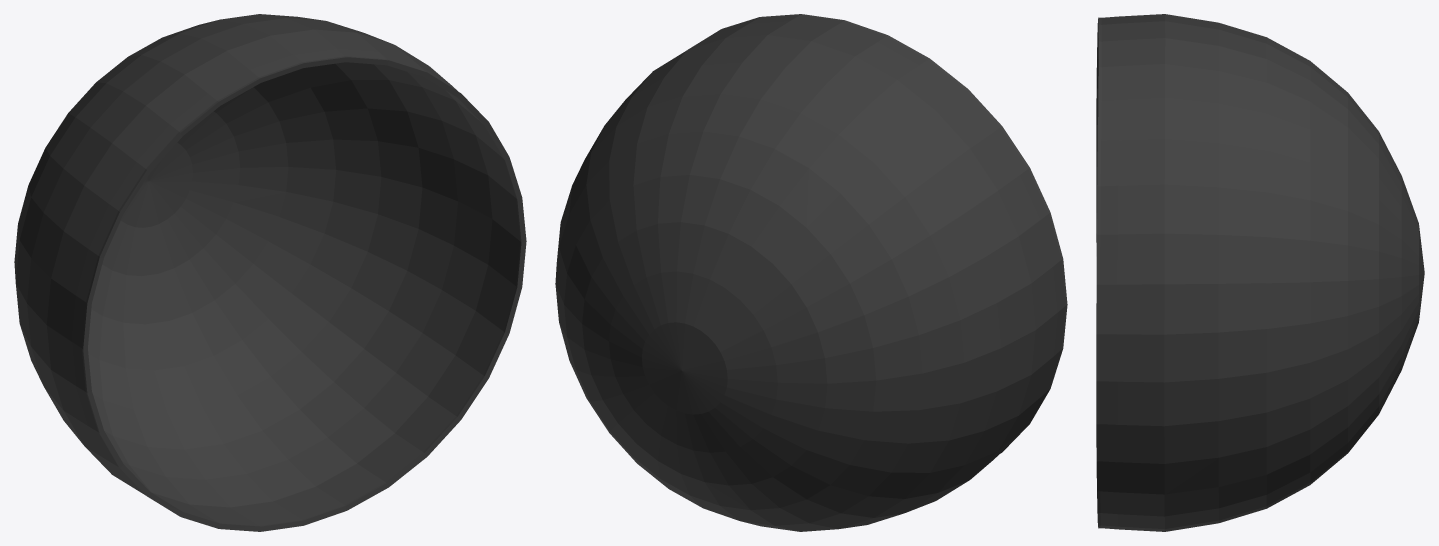
File: Retina.glb
3 renders of one model, left to right at view 1: azimuth 30°, elevation 25°; view 2: azimuth 150°, elevation 25°; view 3: azimuth 270°, elevation 25°, orthographic.
Visible parts, largest first — view 1: Retina; view 2: Retina; view 3: Retina.
Part boxes in pixels (left/top/right/bottom): Retina: left=14, top=14, right=526, bottom=531; Retina: left=555, top=14, right=1067, bottom=531; Retina: left=1096, top=14, right=1424, bottom=531.
Bounding box in the file's own units: 1.72 × 1.72 × 1.09.
Materials: 1 (1 with a texture image).
